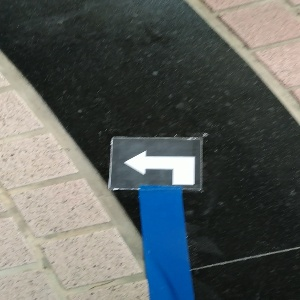left: (107, 134, 203, 189)
